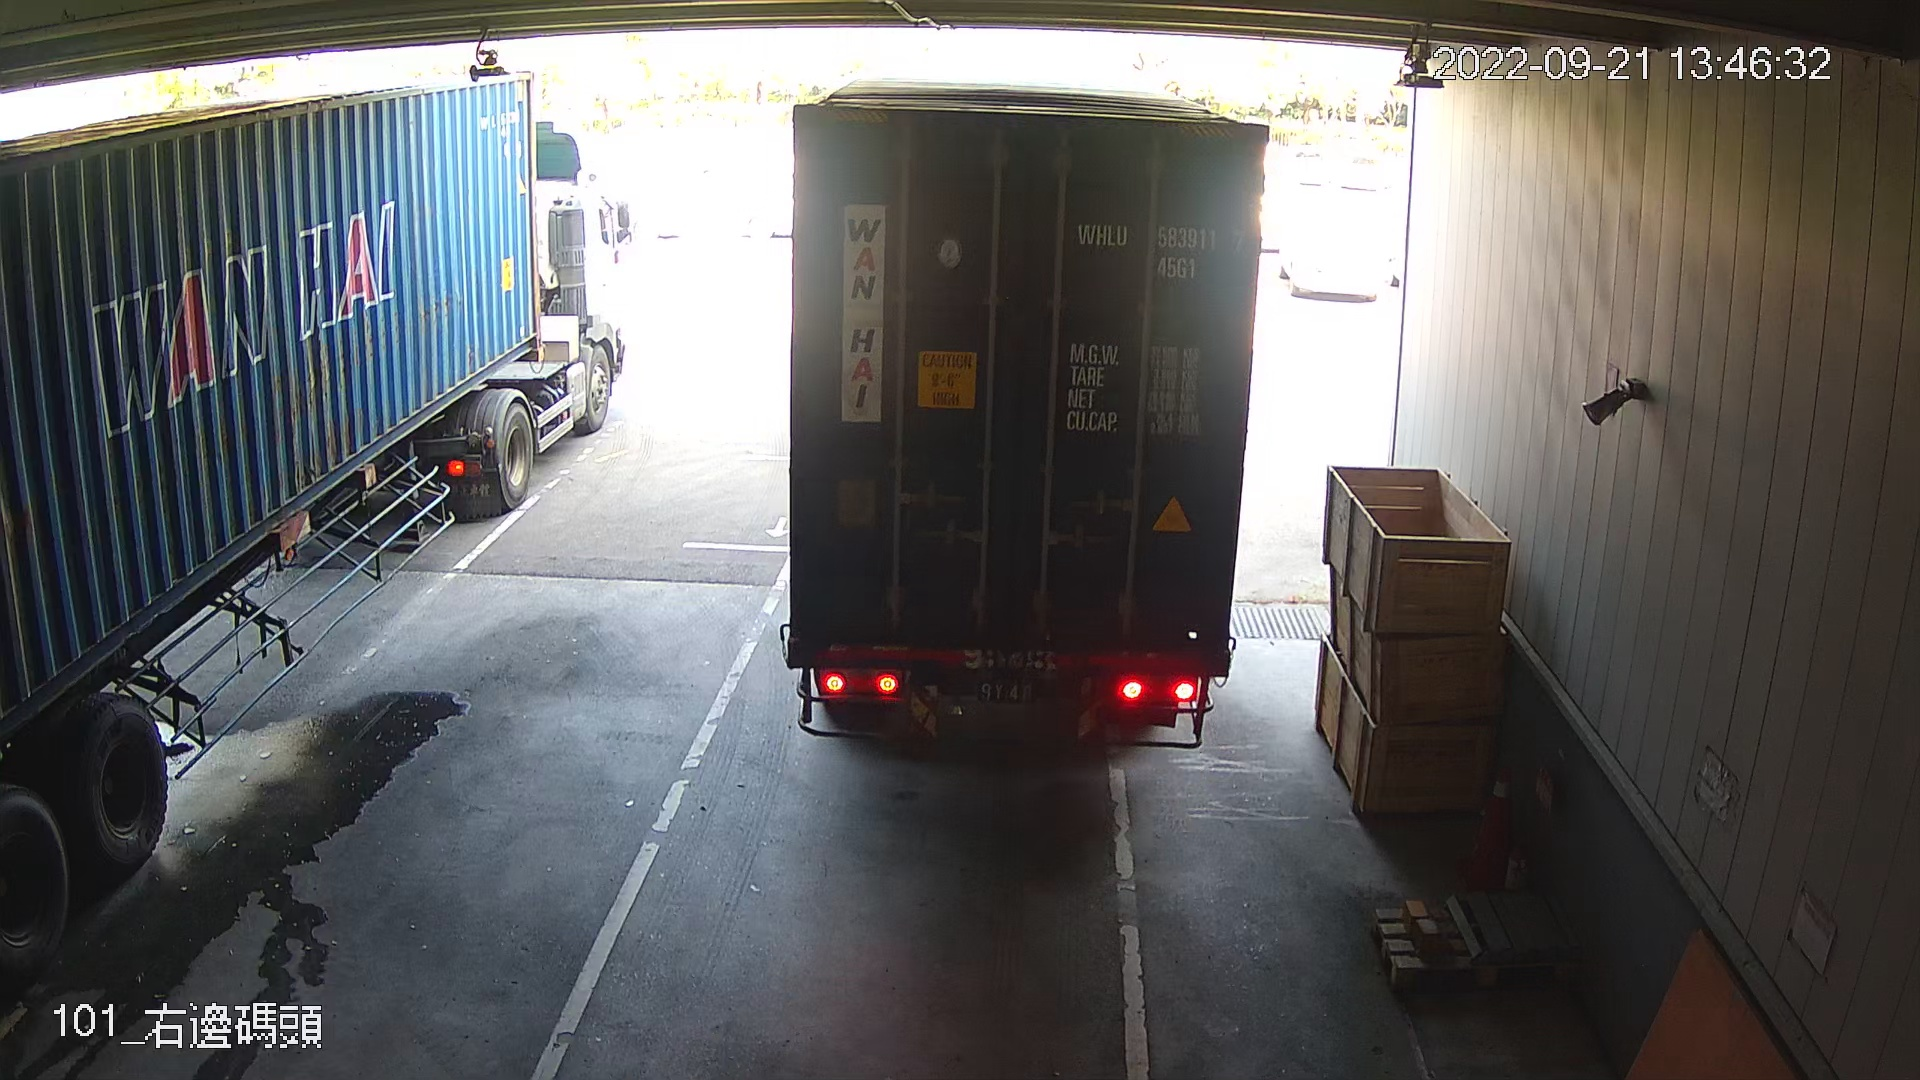container: (1069, 214, 1250, 289)
